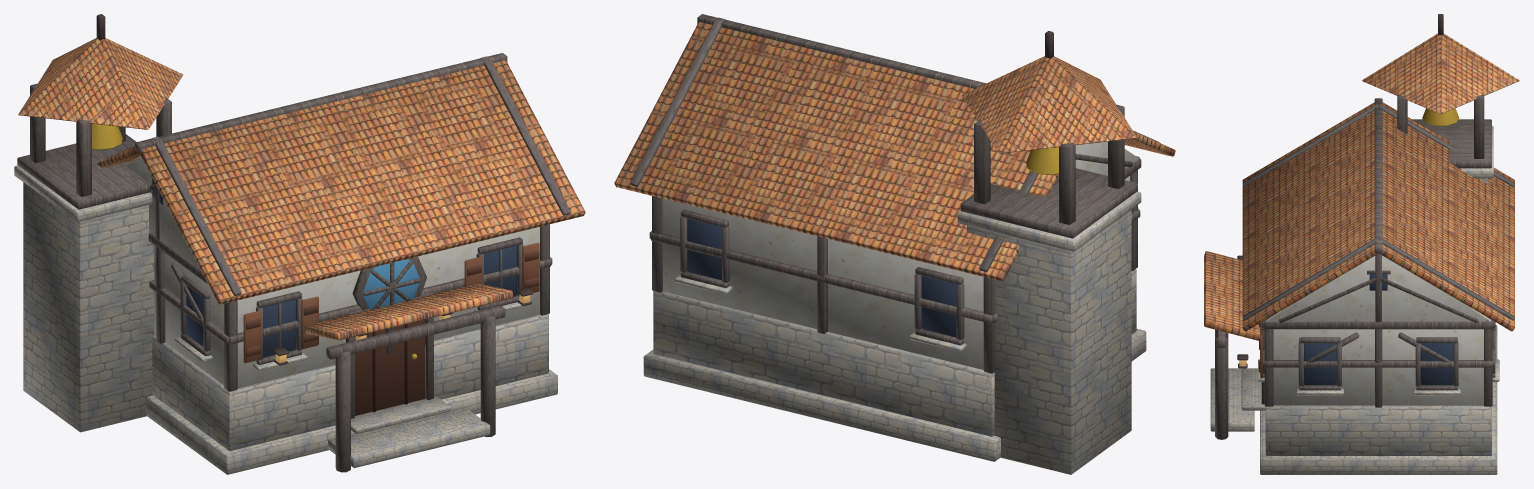
Rendered from town_hall.gltf.
3 renders of one model, left to right at view 1: azimuth 30°, elevation 25°; view 2: azimuth 150°, elevation 25°; view 3: azimuth 270°, elevation 25°, orthographic. The views are drawn at different scales.
Parts seen in each view (by area): view 1: town_hall; view 2: town_hall; view 3: town_hall.
Boxes of the visible parts, box(x1,y1,x2,y2) form: town_hall: box(14, 14, 585, 474); town_hall: box(614, 14, 1175, 474); town_hall: box(1204, 14, 1519, 474).
Size of the model in its own units: 11.8 by 9.65 by 8.65.
Materials: 6 (6 with a texture image).
